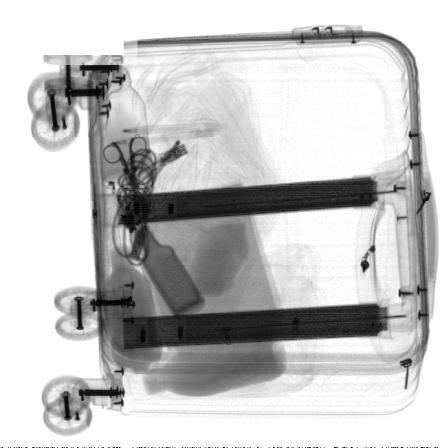Scissors: (102, 133, 148, 201)
